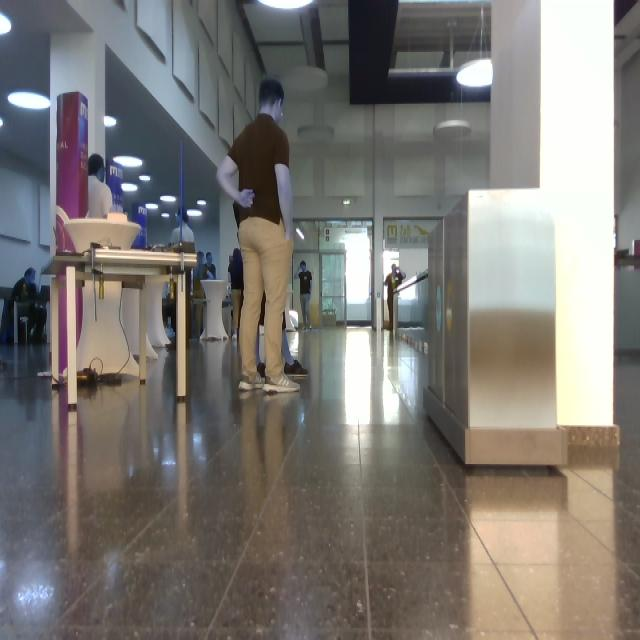light bulb: (457, 58, 493, 88), (457, 58, 491, 88), (9, 92, 50, 110), (434, 120, 471, 138), (299, 125, 334, 142), (258, 1, 315, 10), (1, 13, 12, 36), (106, 116, 117, 128), (122, 184, 138, 192), (189, 209, 203, 217), (482, 8, 484, 49), (146, 204, 159, 210), (140, 176, 150, 182), (197, 200, 206, 206), (1, 117, 3, 128)
person: (217, 80, 299, 393), (1, 269, 47, 342), (87, 154, 112, 218), (386, 265, 406, 332), (297, 261, 313, 330), (172, 208, 194, 244)
pillar: (491, 1, 620, 466), (50, 30, 106, 253)
table: (51, 209, 197, 405), (46, 248, 197, 405)
tiled floor: (1, 328, 640, 640)
